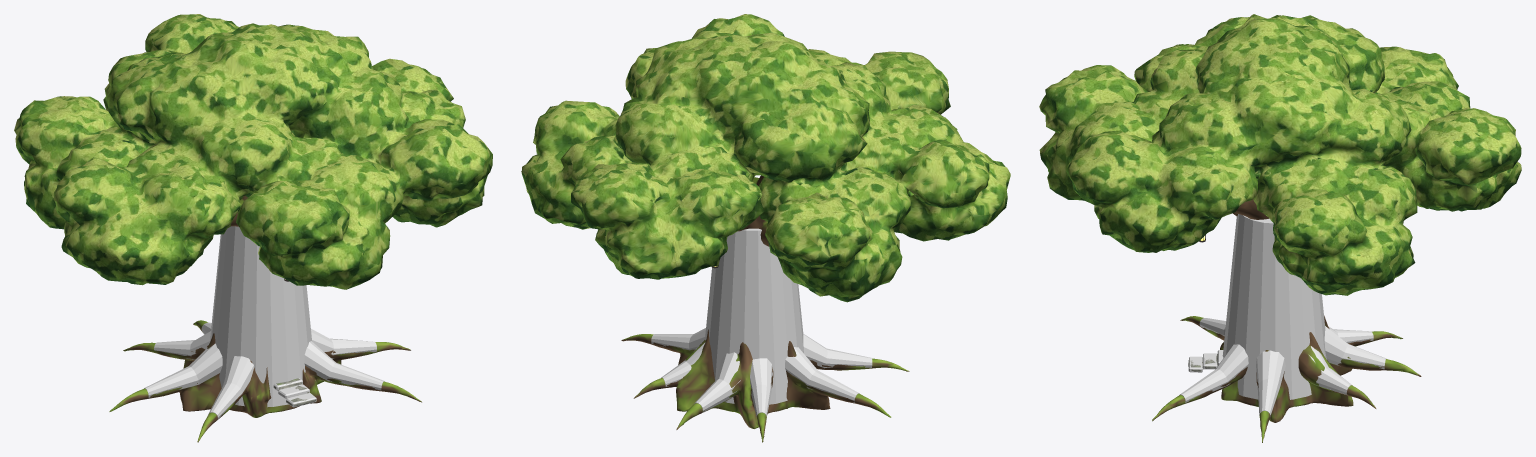
Rendered from ancient_tree.glb.
3 renders of one model, left to right at view 1: azimuth 30°, elevation 25°; view 2: azimuth 150°, elevation 25°; view 3: azimuth 270°, elevation 25°, orthographic. The views are drawn at different scales.
Parts seen in each view (by area): view 1: SM_TreeCanopy, COL_trunk, SM_TreeBark, COL_root_3_0, COL_root_3_1, COL_root_0_1, COL_root_1_0, COL_root_0_0, COL_root_1_1, COL_root_2_1, COL_root_5_1; view 2: SM_TreeCanopy, COL_trunk, SM_TreeBark, COL_root_3_1, COL_root_3_0, COL_root_6_1, COL_root_1_1, COL_root_5_0, COL_root_1_0, COL_root_5_1, COL_root_6_0, COL_root_2_1; view 3: SM_TreeCanopy, COL_trunk, SM_TreeBark, COL_root_2_0, COL_root_0_0, COL_root_0_1, COL_root_2_1, COL_root_6_0, COL_root_6_1, COL_root_4_1.
Boxes of the visible parts, left/top/right/bottom form: SM_TreeCanopy: left=14, top=14, right=492, bottom=289; COL_trunk: left=210, top=226, right=315, bottom=407; SM_TreeBark: left=109, top=133, right=421, bottom=442; COL_root_3_0: left=189, top=343, right=222, bottom=384; COL_root_3_1: left=144, top=366, right=198, bottom=398; COL_root_0_1: left=328, top=362, right=384, bottom=390; COL_root_1_0: left=223, top=356, right=253, bottom=393; COL_root_0_0: left=304, top=341, right=335, bottom=382; COL_root_1_1: left=208, top=383, right=242, bottom=419; COL_root_2_1: left=330, top=338, right=376, bottom=358; COL_root_5_1: left=154, top=340, right=194, bottom=359; SM_TreeCanopy: left=521, top=14, right=1010, bottom=302; COL_trunk: left=705, top=228, right=803, bottom=404; SM_TreeBark: left=621, top=175, right=909, bottom=442; COL_root_3_1: left=807, top=370, right=859, bottom=402; COL_root_3_0: left=785, top=347, right=817, bottom=387; COL_root_6_1: left=694, top=379, right=733, bottom=412; COL_root_1_1: left=823, top=348, right=872, bottom=369; COL_root_5_0: left=750, top=358, right=772, bottom=391; COL_root_1_0: left=803, top=334, right=827, bottom=369; COL_root_5_1: left=751, top=384, right=771, bottom=416; COL_root_6_0: left=716, top=352, right=740, bottom=396; COL_root_2_1: left=651, top=334, right=693, bottom=350; SM_TreeCanopy: left=1039, top=14, right=1521, bottom=295; COL_trunk: left=1222, top=214, right=1326, bottom=399; SM_TreeBark: left=1152, top=199, right=1421, bottom=442; COL_root_2_0: left=1256, top=350, right=1285, bottom=387; COL_root_0_0: left=1215, top=344, right=1248, bottom=384; COL_root_0_1: left=1180, top=369, right=1227, bottom=402; COL_root_2_1: left=1257, top=379, right=1279, bottom=416; COL_root_6_0: left=1324, top=326, right=1348, bottom=365; COL_root_6_1: left=1340, top=344, right=1386, bottom=369; COL_root_4_1: left=1316, top=368, right=1352, bottom=394.
Bounding box in the file's own units: 16.66 × 13.58 × 16.71.
6 materials, 2 textured.
